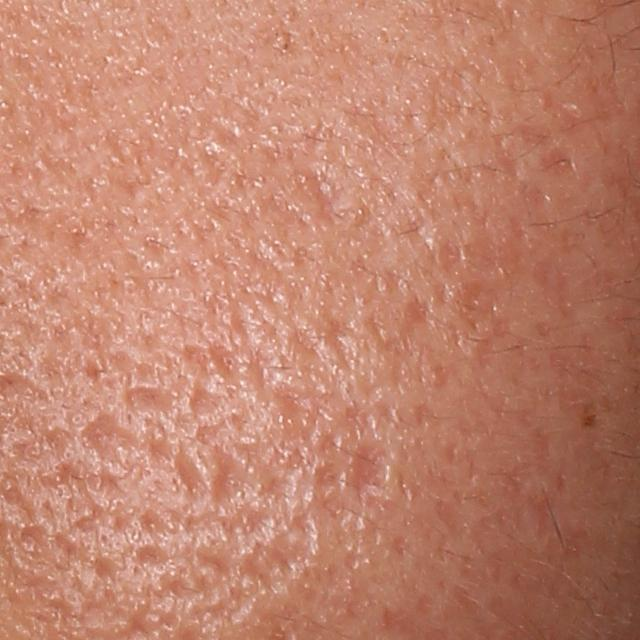atrophic_scar: (370, 298, 431, 378), (78, 407, 149, 474), (209, 442, 265, 517), (345, 438, 393, 515), (300, 164, 355, 228), (173, 440, 212, 499), (320, 316, 356, 374), (121, 383, 179, 416), (189, 379, 228, 420), (541, 147, 575, 175), (136, 546, 172, 572)
